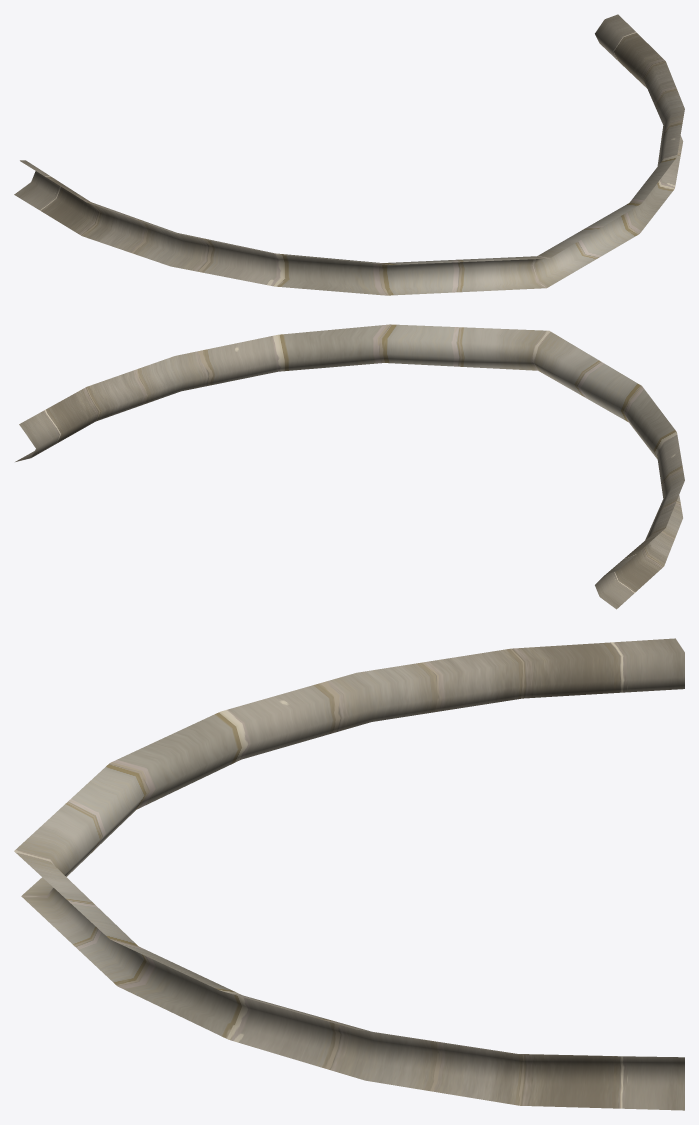
File: Nerve_corner1.FBX
3 renders of one model, top to bottom at view 1: azimuth 30°, elevation 25°; view 2: azimuth 150°, elevation 25°; view 3: azimuth 270°, elevation 25°, orthographic. The views are drawn at different scales.
Parts seen in each view (by area): view 1: Nerve_corner1; view 2: Nerve_corner1; view 3: Nerve_corner1.
Boxes of the visible parts, bbox=[...] form: Nerve_corner1: bbox=[14, 14, 684, 295]; Nerve_corner1: bbox=[15, 324, 684, 609]; Nerve_corner1: bbox=[14, 638, 684, 1110].
Size of the model in its own units: 328 by 221 by 19.71.
